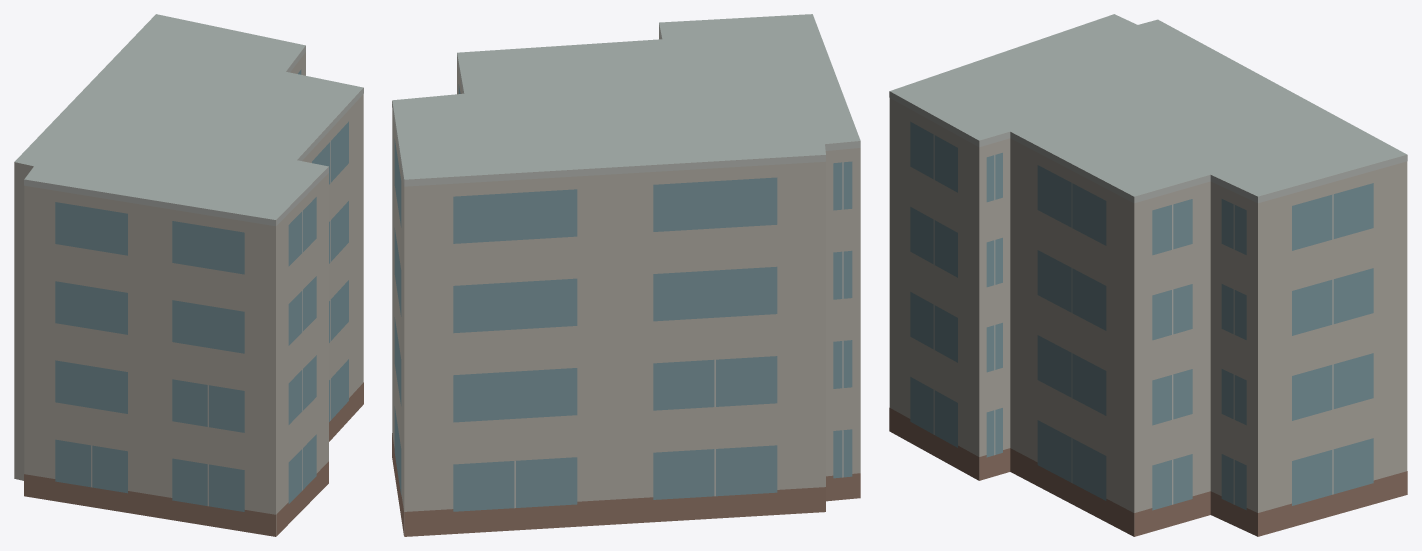
Rendered from survey-upis-32866461.glb.
3 renders of one model, left to right at view 1: azimuth 30°, elevation 25°; view 2: azimuth 150°, elevation 25°; view 3: azimuth 270°, elevation 25°, orthographic. The views are drawn at different scales.
Visible parts, largest first — view 1: survey-upis-32866461.tmp; view 2: survey-upis-32866461.tmp; view 3: survey-upis-32866461.tmp.
Boxes of the visible parts, x1,y1,x2,y2 form: survey-upis-32866461.tmp: (14, 14, 363, 536); survey-upis-32866461.tmp: (392, 14, 860, 536); survey-upis-32866461.tmp: (889, 14, 1407, 536).
Size of the model in its own units: 14.41 by 12.5 by 17.26.
